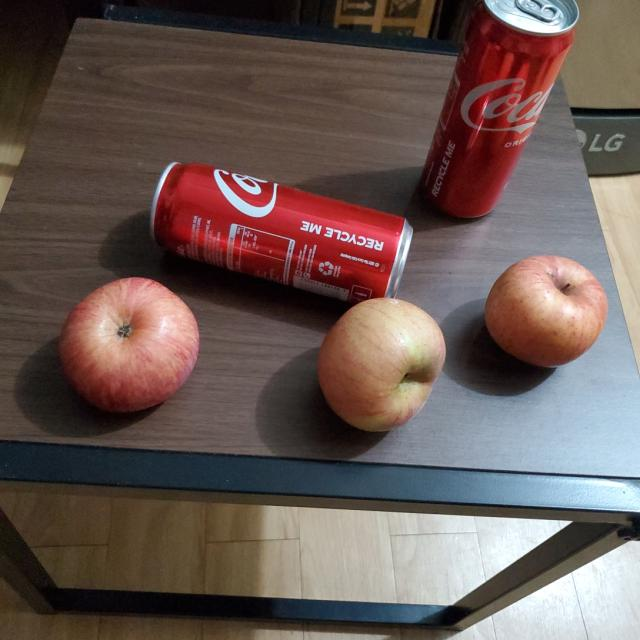apple: (64, 283, 203, 417), (318, 304, 446, 436), (489, 258, 612, 371)
coke: (154, 166, 415, 305), (413, 1, 577, 220)
